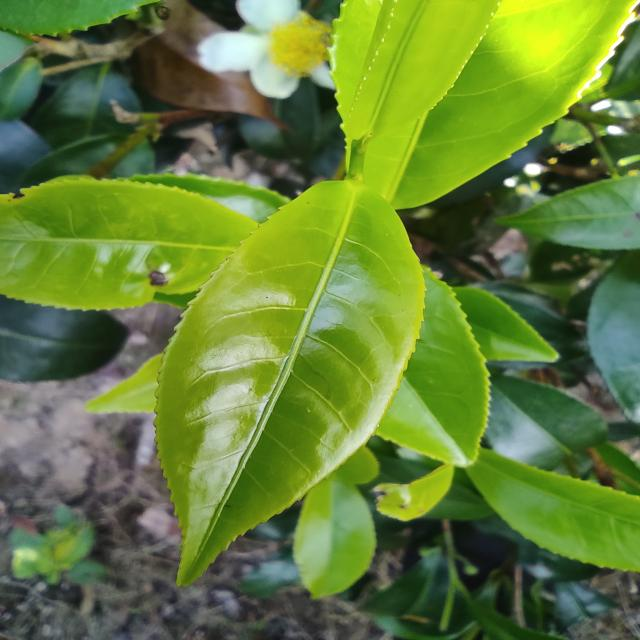Category B(2-4 days): (134, 134, 460, 600)
